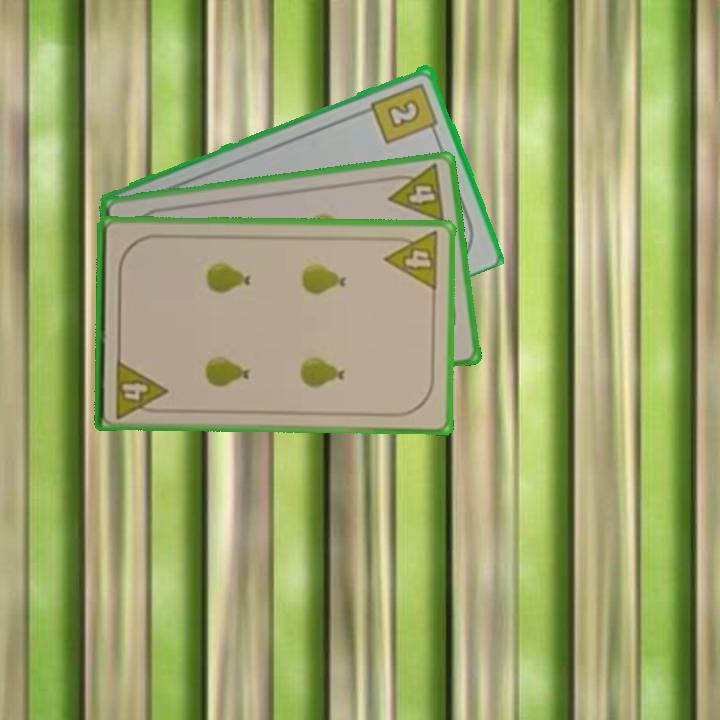2b: (368, 79, 441, 146)
4p: (383, 161, 448, 226), (382, 228, 442, 293), (112, 356, 169, 421)
